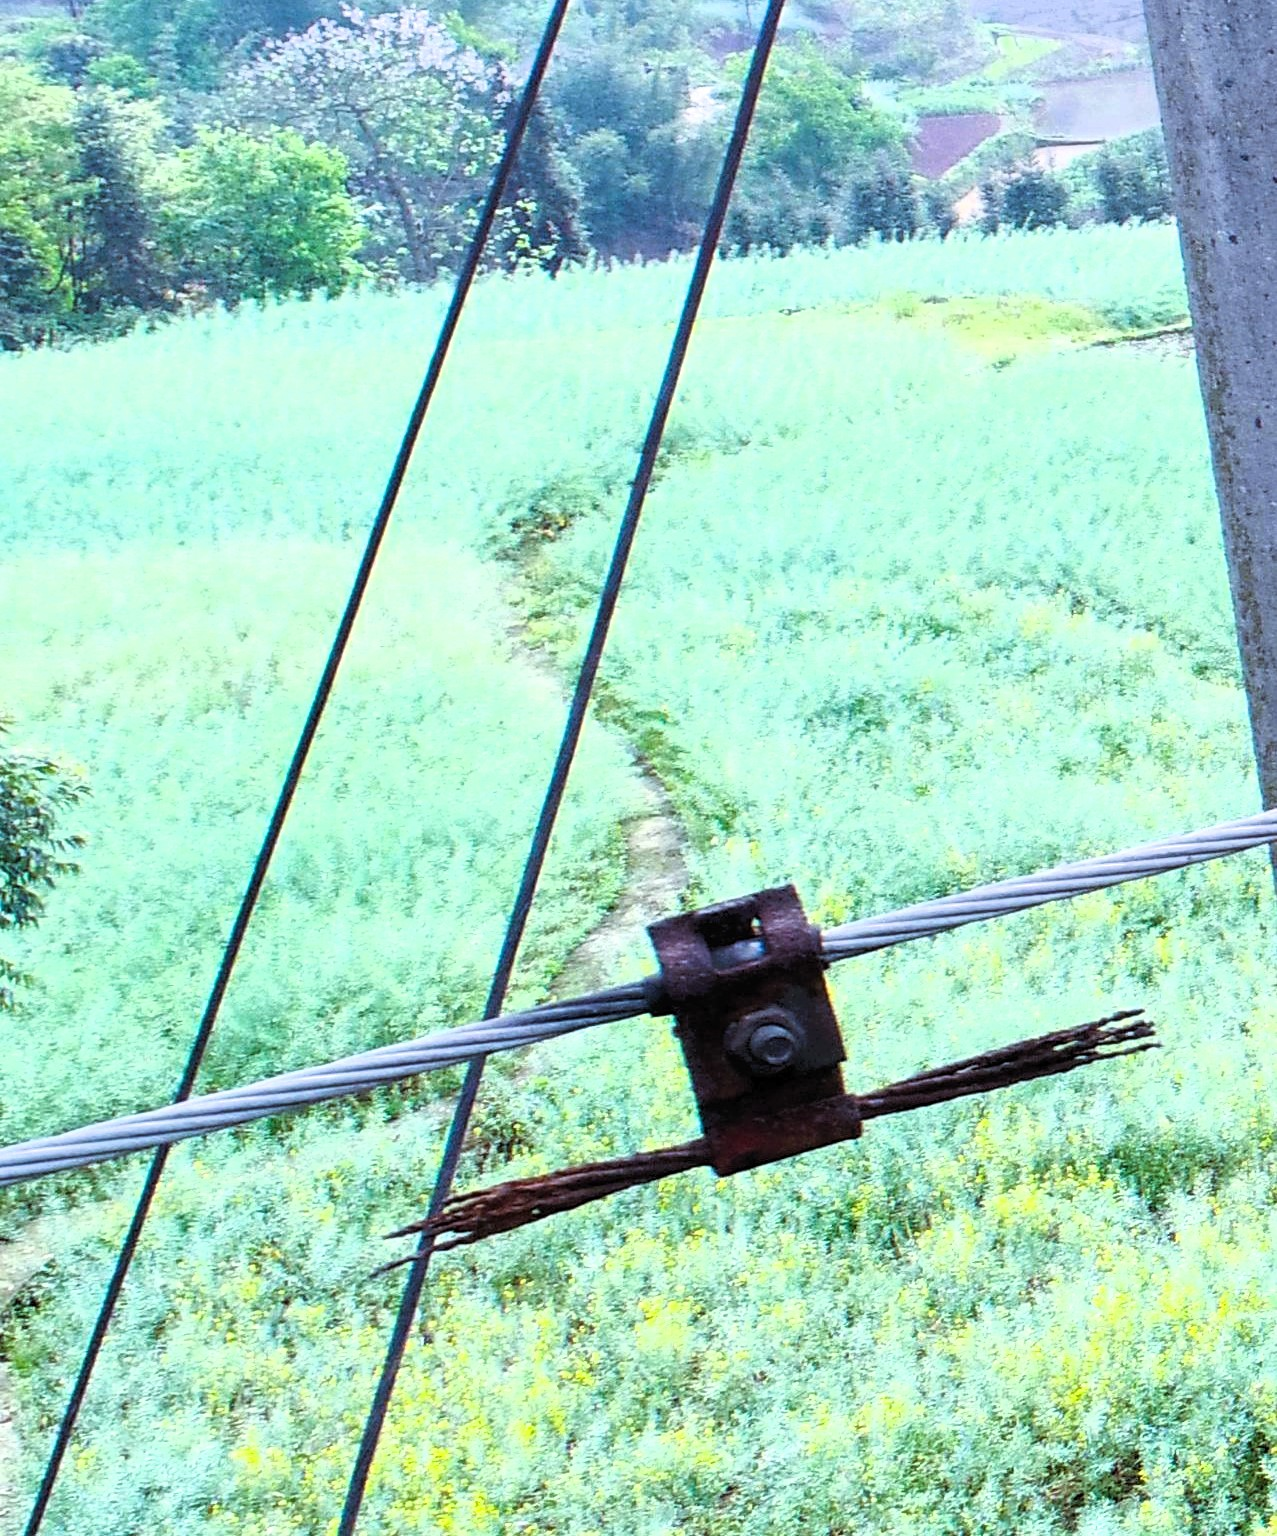Damage of shockproof hammer: (389, 816, 1195, 1269)
